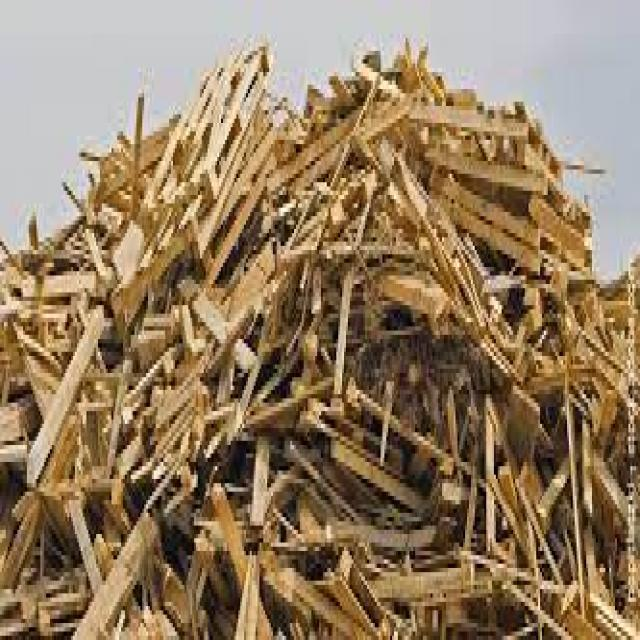green waste: (7, 35, 639, 638)
